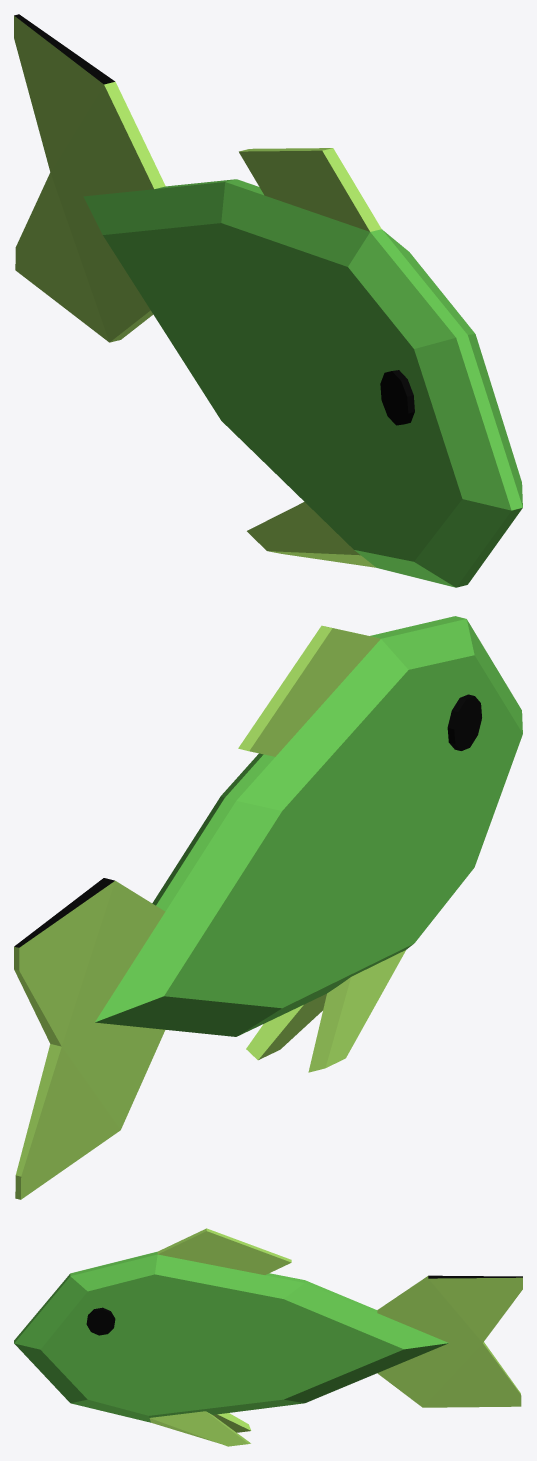
Rendered from Fish 01.fbx.
3 views of the same model, one above another, from view 1: azimuth 30°, elevation 25°; view 2: azimuth 150°, elevation 25°; view 3: azimuth 270°, elevation 25° (orthographic). The views are drawn at different scales.
Visible parts, largest first — view 1: Fish 01; view 2: Fish 01; view 3: Fish 01.
Part boxes in pixels (box(x1,y1,x2,y2)): Fish 01: box(14, 14, 522, 587); Fish 01: box(14, 616, 522, 1199); Fish 01: box(14, 1228, 522, 1446).
Bounding box in the file's own units: 6.83 × 33.94 × 74.39.
